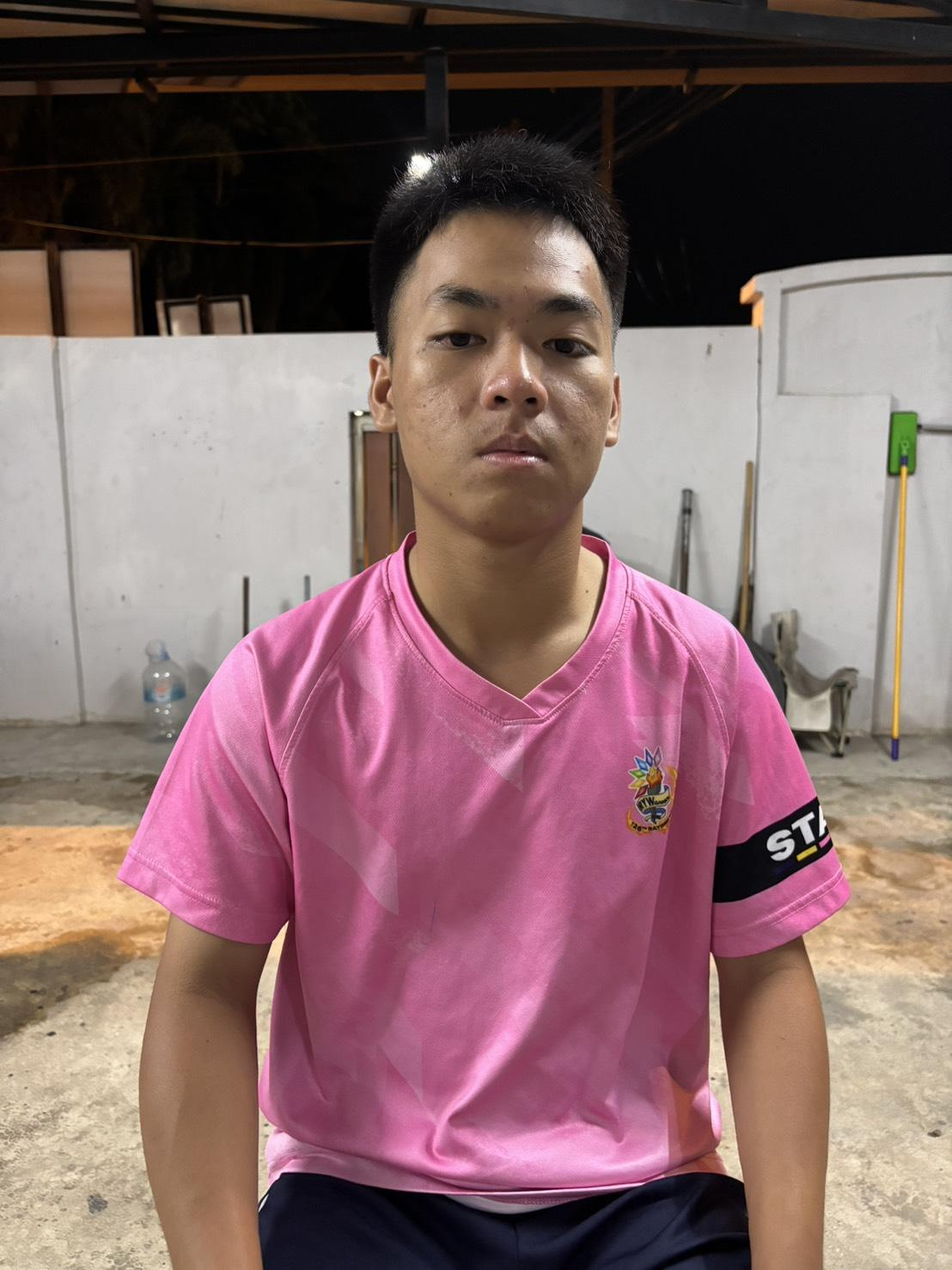GoodPosture: (121, 136, 848, 1269), (119, 136, 847, 956)
